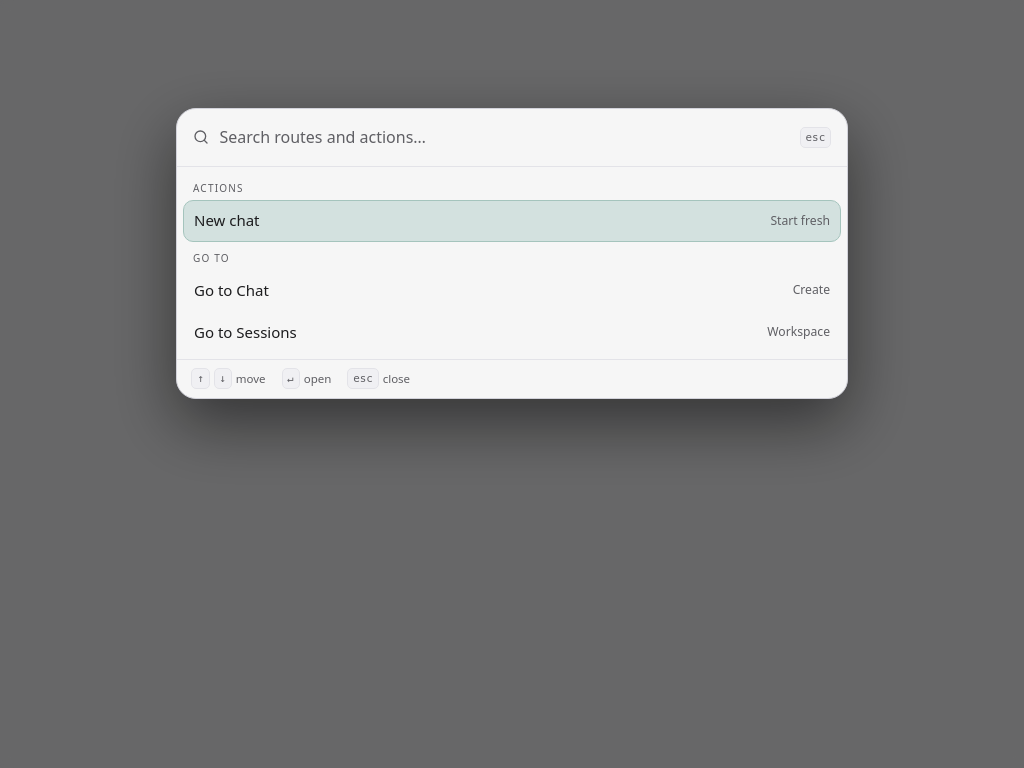
Test case: CommandPalette › writes what was typed when there is no match
The image size is (1024, 768).
Type "zzz" into the field named "Search commands" at [504, 137], box left=219, top=122, right=789, bottom=152
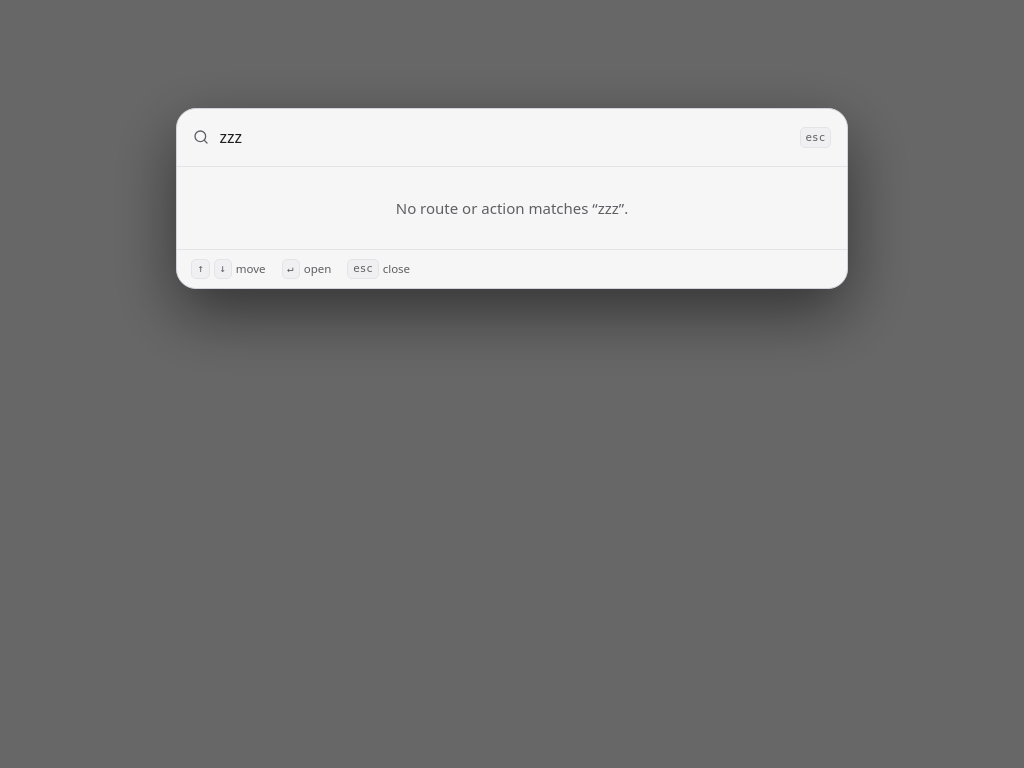
Check: the text "No route or action matches “zzz”." is shown, box left=396, top=198, right=628, bottom=218
